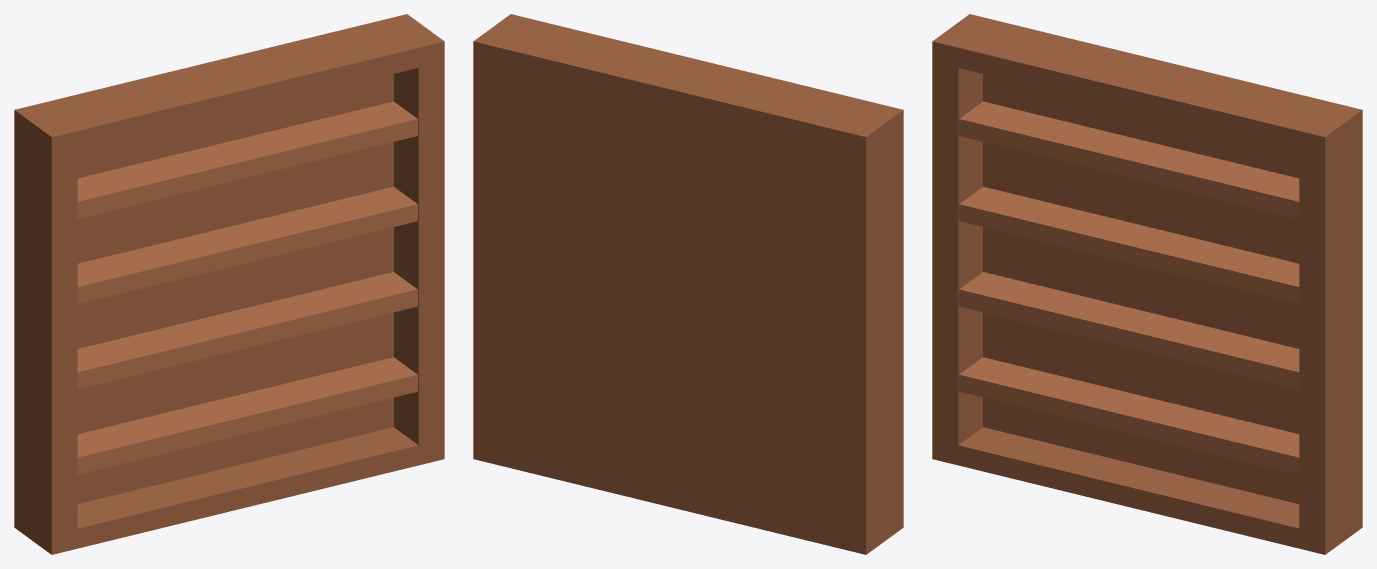
The model's file is bookshelf_2.obj.
3 views of the same model, side by side, from view 1: azimuth 30°, elevation 25°; view 2: azimuth 150°, elevation 25°; view 3: azimuth 330°, elevation 25° (orthographic).
Visible parts, largest first — view 1: bookshelf_2; view 2: bookshelf_2; view 3: bookshelf_2.
Part boxes in pixels (<box>): bookshelf_2: <box>14,14,444,554</box>; bookshelf_2: <box>473,14,903,554</box>; bookshelf_2: <box>932,14,1362,554</box>.
Bounding box in the file's own units: 0.8828 × 0.8972 × 0.1456.
